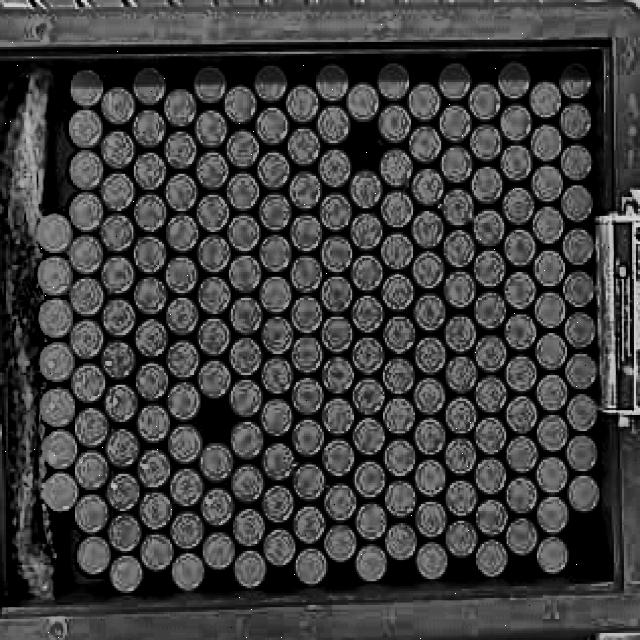vial: (72, 449, 113, 489), (133, 358, 169, 402), (38, 341, 76, 382), (226, 378, 264, 419), (378, 147, 415, 189), (286, 125, 323, 167), (68, 191, 105, 233), (73, 406, 110, 448), (471, 289, 507, 332), (39, 297, 74, 341), (436, 61, 473, 102), (560, 183, 597, 224), (164, 296, 201, 337), (103, 382, 140, 423), (441, 268, 477, 310), (131, 64, 167, 106), (255, 104, 290, 147), (131, 235, 169, 274), (40, 429, 78, 468), (564, 433, 601, 473), (67, 150, 104, 190), (164, 214, 201, 254), (195, 317, 232, 357), (227, 295, 264, 335), (68, 278, 105, 318), (407, 82, 443, 123), (323, 523, 359, 564), (69, 66, 105, 107), (100, 86, 136, 127), (193, 150, 229, 191), (318, 191, 354, 232), (69, 234, 105, 275), (101, 297, 137, 338), (133, 317, 169, 358), (101, 339, 137, 380), (164, 339, 200, 380), (70, 318, 106, 359), (223, 83, 258, 125), (101, 212, 136, 254), (135, 402, 169, 445), (289, 376, 326, 415), (437, 103, 473, 143), (349, 294, 385, 334), (353, 501, 389, 541), (192, 64, 228, 104), (193, 109, 229, 149), (100, 171, 136, 211), (226, 213, 262, 253), (100, 255, 136, 295), (195, 276, 231, 316), (319, 396, 355, 436), (377, 102, 412, 143), (285, 83, 320, 124), (316, 105, 351, 146), (411, 250, 446, 291), (413, 335, 448, 376), (531, 247, 566, 288), (564, 351, 599, 392), (350, 335, 385, 376), (475, 539, 510, 580), (444, 519, 479, 560), (414, 540, 449, 581), (322, 482, 357, 523), (163, 87, 198, 128), (132, 107, 167, 148), (256, 150, 291, 191), (133, 150, 168, 191), (163, 129, 198, 170), (318, 147, 353, 188), (196, 192, 231, 233), (257, 192, 292, 233), (134, 192, 169, 233), (37, 213, 72, 254), (228, 336, 263, 377), (167, 380, 202, 421), (101, 128, 135, 170), (289, 212, 323, 254), (197, 359, 234, 397), (473, 375, 509, 414), (504, 395, 540, 434), (504, 435, 540, 474), (534, 496, 570, 535), (225, 129, 261, 168), (225, 171, 261, 210), (196, 234, 232, 273), (319, 274, 355, 313), (558, 59, 593, 99), (467, 82, 502, 122), (348, 169, 383, 209), (379, 189, 414, 229), (562, 226, 597, 266), (349, 211, 384, 251), (473, 249, 508, 289), (382, 314, 417, 354), (349, 253, 384, 293), (380, 271, 415, 311), (473, 333, 508, 373), (381, 395, 416, 435), (535, 455, 570, 495), (442, 437, 477, 477), (414, 499, 449, 539), (504, 518, 539, 558), (253, 63, 288, 103), (68, 108, 103, 148), (164, 172, 199, 212), (165, 255, 200, 295), (38, 255, 73, 295), (259, 355, 294, 395), (71, 363, 106, 403), (377, 61, 411, 102), (346, 81, 380, 122), (470, 165, 504, 206), (441, 187, 475, 228), (532, 205, 566, 246), (503, 227, 537, 268), (413, 292, 447, 333), (504, 269, 538, 310), (473, 456, 507, 497), (354, 543, 388, 584), (133, 275, 167, 316), (260, 397, 294, 438), (559, 142, 594, 181), (440, 144, 475, 183), (410, 168, 445, 207), (563, 311, 598, 350), (442, 314, 477, 353), (412, 416, 447, 455), (535, 373, 570, 412), (565, 393, 600, 432), (473, 417, 508, 456), (352, 417, 387, 456), (384, 521, 419, 560), (290, 335, 325, 374), (319, 315, 354, 354), (316, 62, 350, 102), (560, 101, 594, 141), (499, 102, 533, 142), (529, 123, 563, 163), (530, 163, 564, 203), (504, 354, 538, 394), (444, 395, 478, 435), (288, 170, 322, 210), (44, 473, 78, 513), (497, 60, 530, 101), (529, 79, 562, 120), (354, 459, 387, 500), (380, 356, 415, 394), (290, 295, 325, 333), (75, 495, 110, 533), (470, 123, 504, 162), (411, 210, 445, 249), (444, 355, 478, 394), (503, 313, 537, 352), (562, 269, 596, 308), (414, 457, 448, 496), (476, 497, 510, 536), (505, 475, 539, 514), (567, 474, 601, 513), (320, 234, 354, 273), (289, 255, 323, 294), (262, 443, 296, 482), (408, 124, 441, 164), (534, 290, 567, 330), (536, 413, 569, 453), (537, 536, 570, 576), (261, 316, 294, 356), (201, 487, 234, 527), (169, 425, 202, 465), (141, 533, 174, 573), (384, 480, 419, 517), (500, 144, 534, 182), (534, 332, 568, 370), (383, 438, 417, 476), (259, 234, 293, 272), (41, 389, 75, 427), (502, 186, 535, 225), (473, 208, 506, 247), (442, 228, 475, 267), (445, 478, 478, 517), (260, 274, 293, 313), (201, 443, 234, 482), (263, 527, 296, 566), (107, 429, 140, 468), (229, 254, 261, 294), (322, 438, 354, 478), (202, 532, 236, 569), (77, 538, 111, 575), (413, 377, 446, 415), (352, 377, 385, 415), (293, 506, 326, 544), (138, 450, 171, 488), (381, 231, 413, 270), (110, 555, 142, 594), (292, 463, 326, 499), (234, 550, 267, 587), (262, 486, 295, 523), (232, 509, 265, 546), (109, 514, 142, 551), (173, 554, 205, 592), (139, 492, 172, 528), (171, 469, 203, 506), (295, 548, 327, 585), (107, 474, 139, 511), (232, 464, 263, 502), (171, 512, 203, 548), (230, 424, 263, 458), (292, 421, 324, 456)
